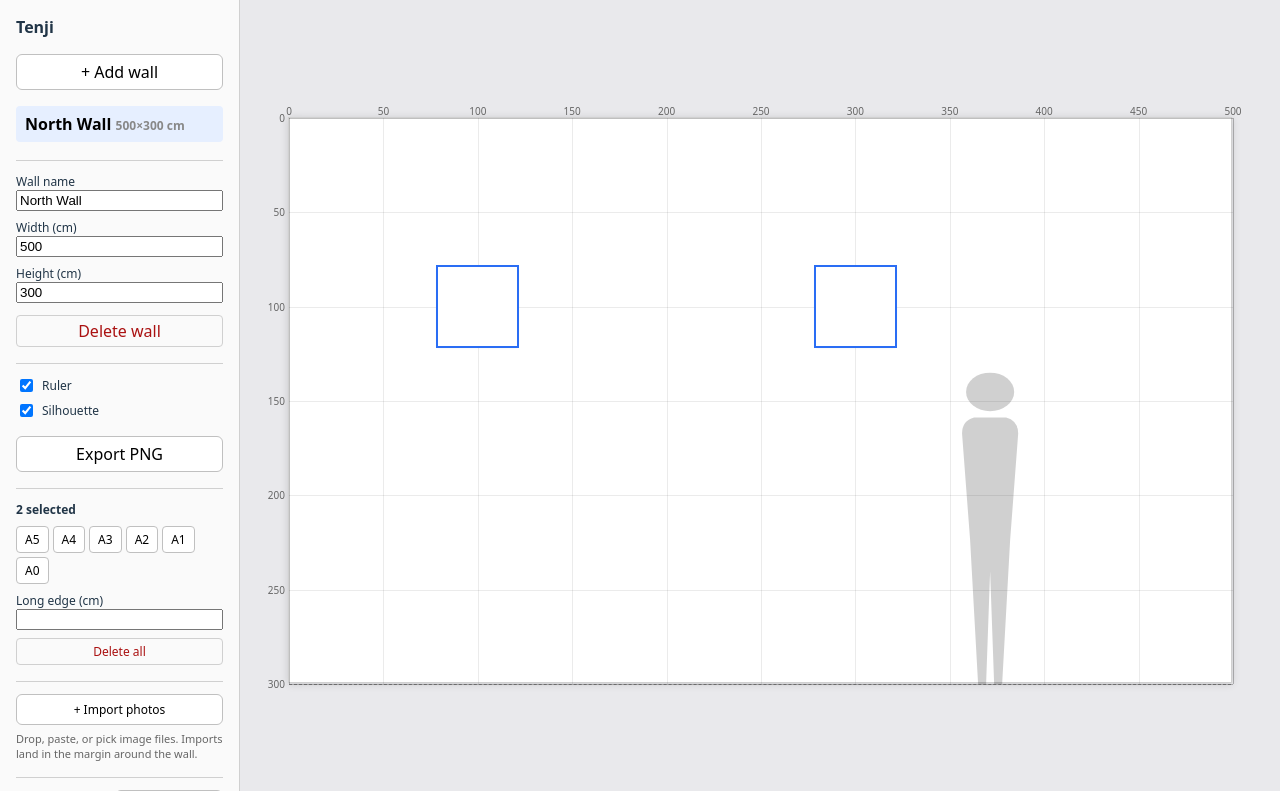
App › plain-click on an unselected photo collapses the selection to just it
This screenshot has width=1280, height=791.
Check: the element with test id "group-inspector" is shown, box [16,488,223,665]
Press the mouse on the element with test id "placement-pl-a" at (478, 307), box [438,267,517,346]
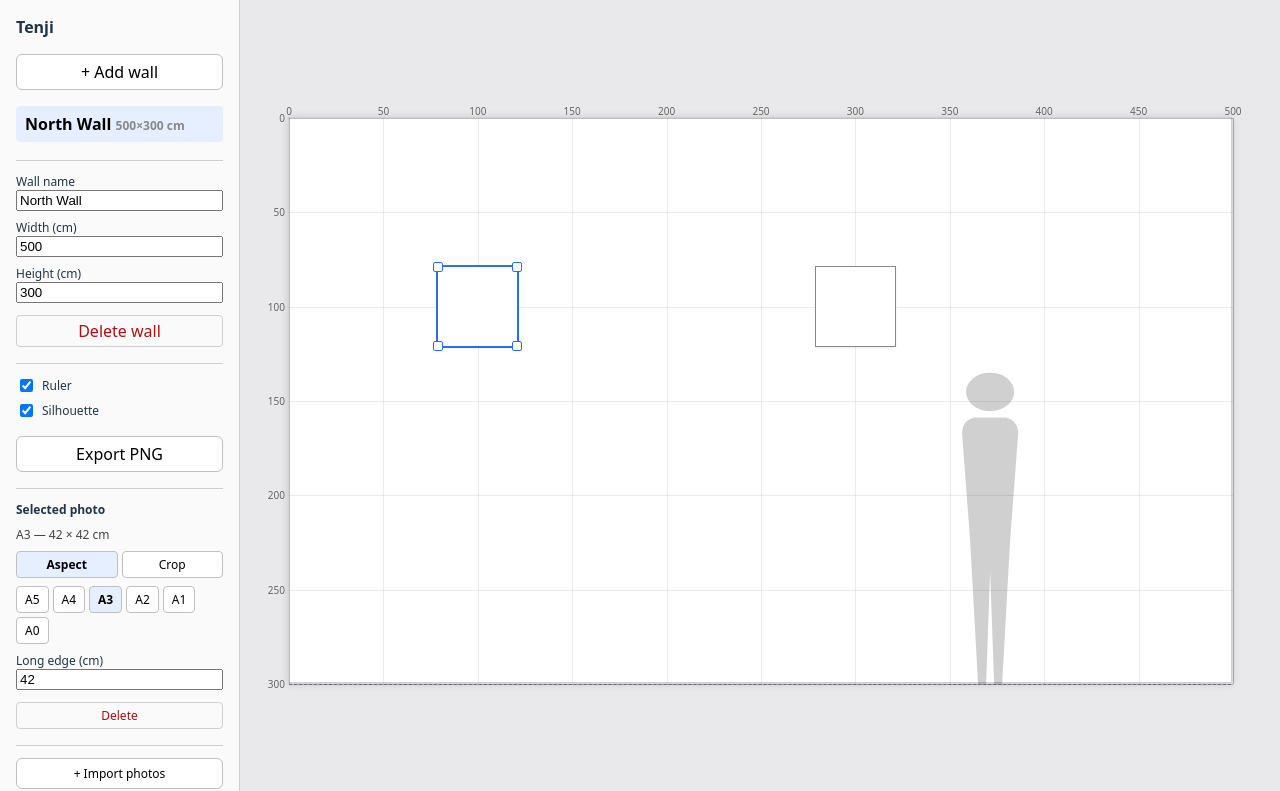
Check: the element with test id "group-inspector" is gone
